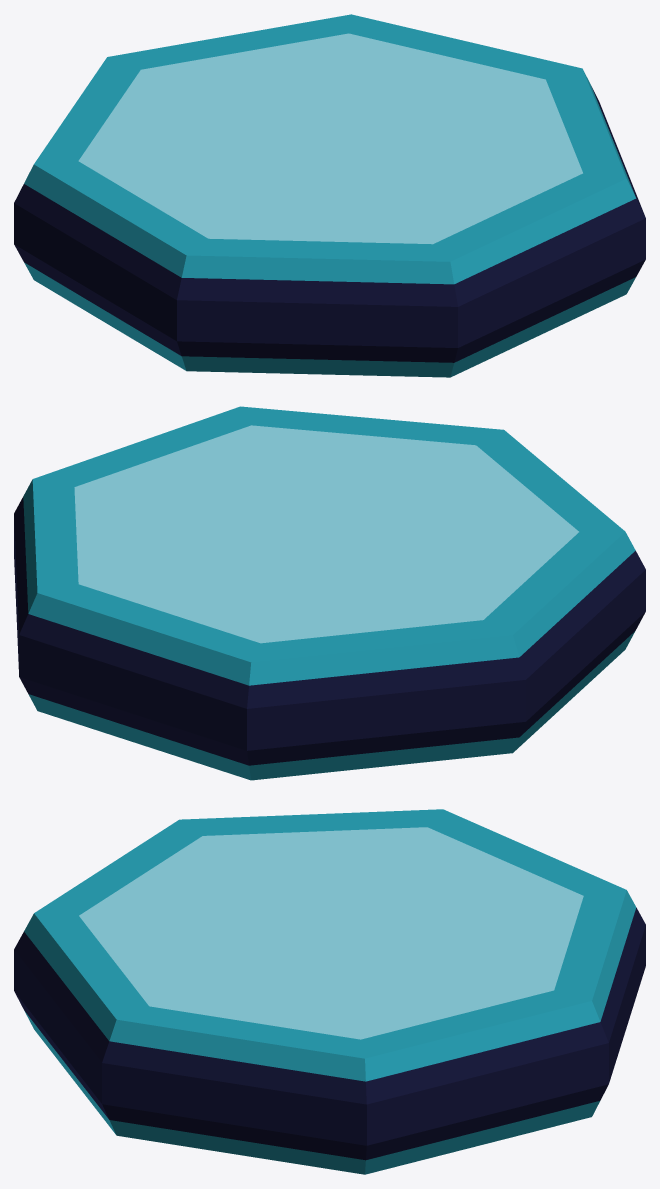
Rendered from Buckle.fbx.
3 renders of one model, top to bottom at view 1: azimuth 30°, elevation 25°; view 2: azimuth 150°, elevation 25°; view 3: azimuth 270°, elevation 25°, orthographic. The views are drawn at different scales.
Visible parts, largest first — view 1: Buckle; view 2: Buckle; view 3: Buckle.
Boxes of the visible parts, left/top/right/bottom form: Buckle: left=14, top=14, right=645, bottom=377; Buckle: left=14, top=406, right=645, bottom=780; Buckle: left=14, top=809, right=645, bottom=1174.
Size of the model in its own units: 21.63 by 4.4 by 21.72.
